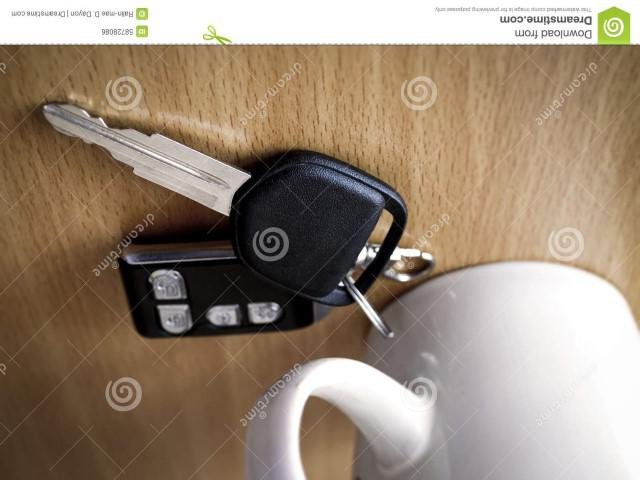key: (36, 104, 410, 410)
